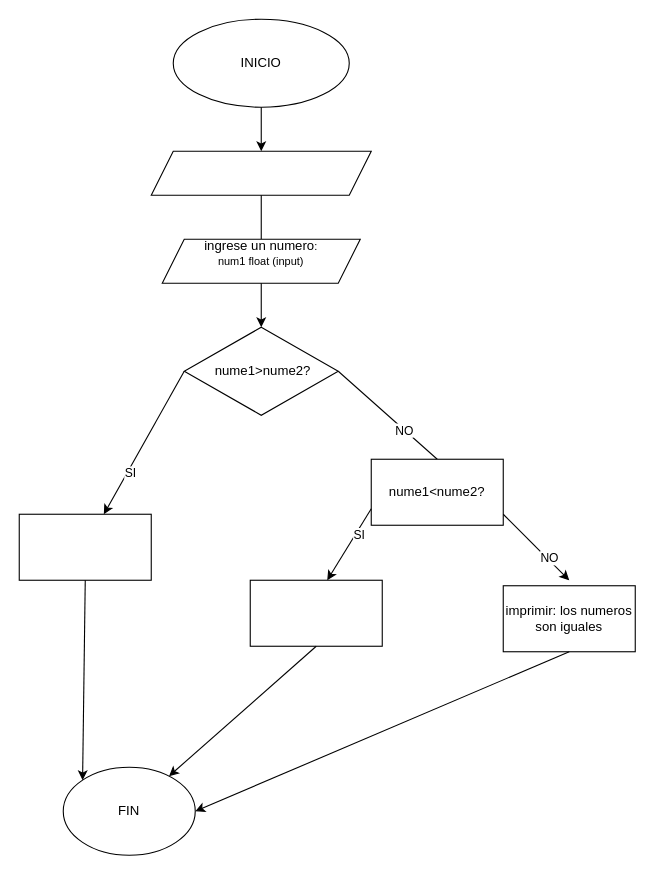
The diagram is 655 pixels wide and 875 high, and some of its shapes have lost their labels. Each missing label, with the centre of its shape:
imprimir: num1 es mayor que num2: the point at 84,546
imprimir: num2 es menor num3: the point at 315,612
Ingrese un numero: num1 float(input): the point at 260,172
